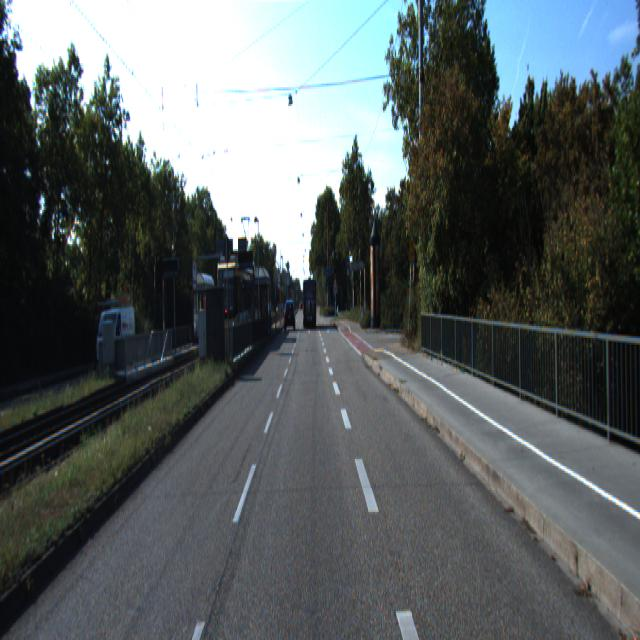Car: (213, 258, 260, 353), (94, 308, 136, 376), (302, 279, 316, 330), (285, 300, 295, 331)
